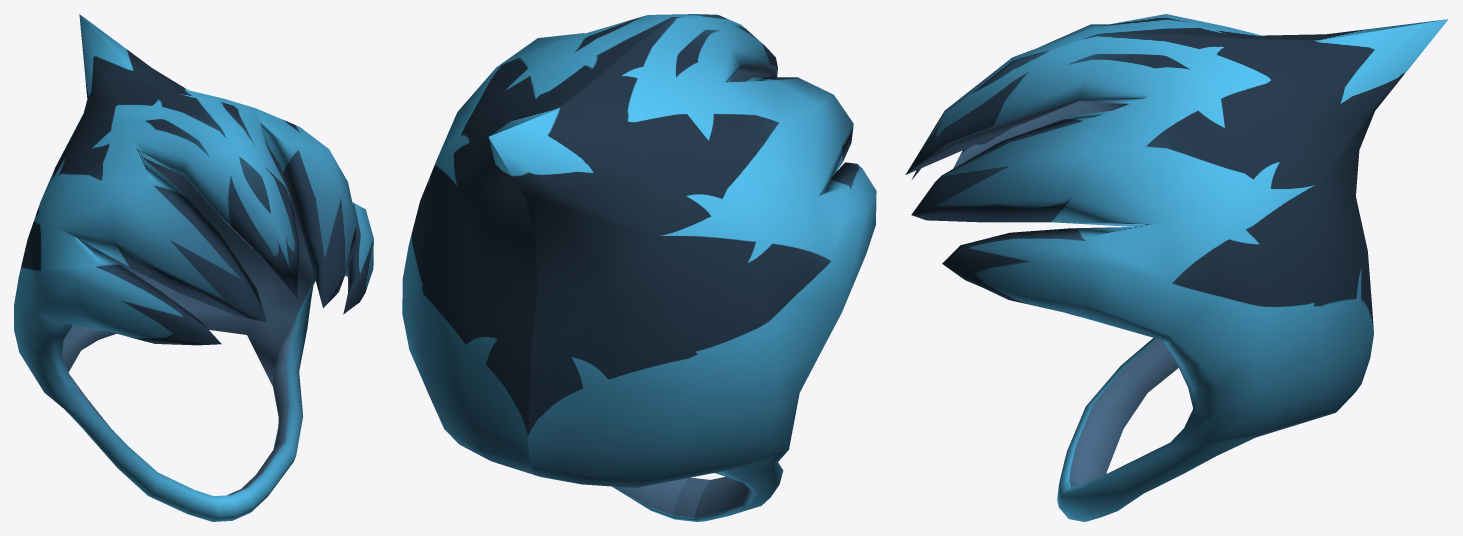
File: hat_17.fbx
The picture shows the model from 3 angles, left to right: view 1: azimuth 30°, elevation 25°; view 2: azimuth 150°, elevation 25°; view 3: azimuth 270°, elevation 25°; orthographic projection. The views are drawn at different scales.
Visible parts, largest first — view 1: hat_17; view 2: hat_17; view 3: hat_17.
Boxes of the visible parts, <box> form: hat_17: <box>14,14,373,521</box>; hat_17: <box>402,14,876,521</box>; hat_17: <box>905,14,1448,521</box>.
Bounding box in the file's own units: 65.54 × 79.56 × 79.12.
